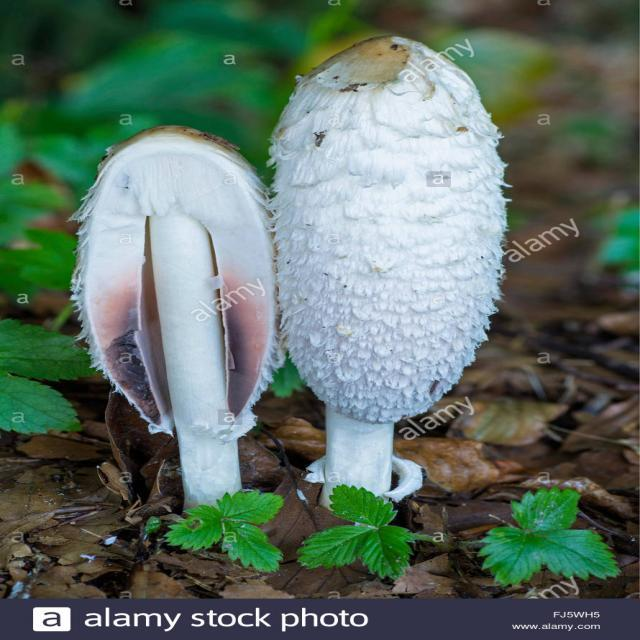Coprinus comatus: (265, 34, 503, 489), (75, 130, 280, 491)
